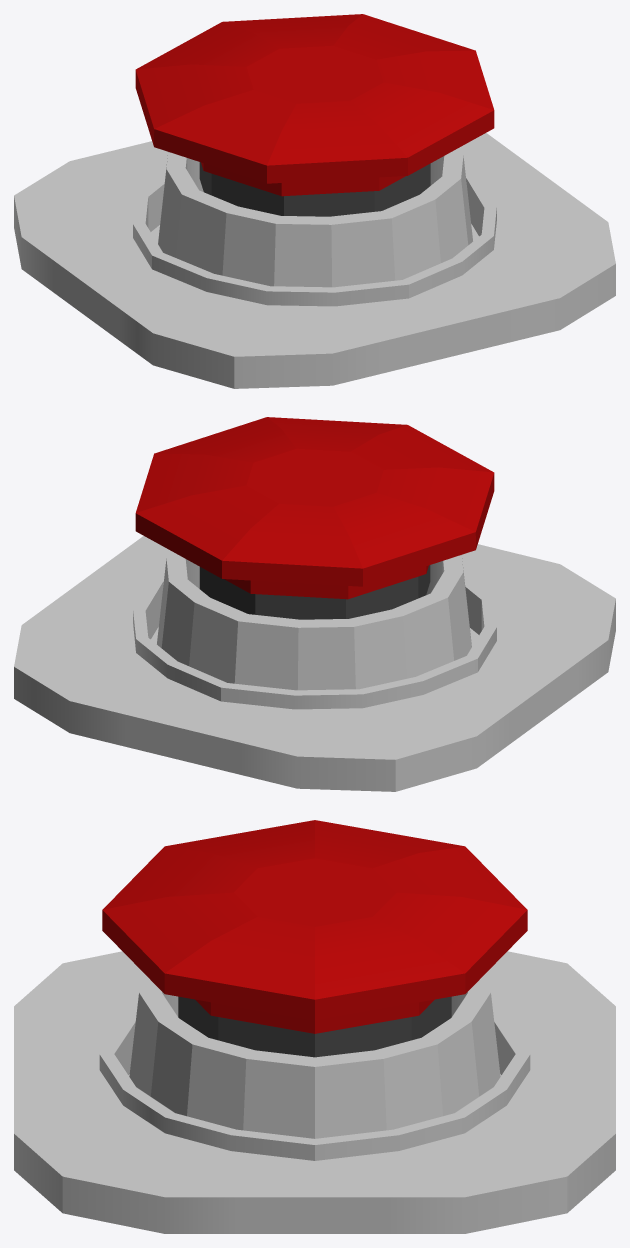
The model's file is BUTTON - UPDATED (DEC 1, 2023).fbx.
The picture shows the model from 3 angles, top to bottom: view 1: azimuth 30°, elevation 25°; view 2: azimuth 150°, elevation 25°; view 3: azimuth 270°, elevation 25°; orthographic projection. The views are drawn at different scales.
Visible parts, largest first — view 1: pCube2, pSphere2; view 2: pCube2, pSphere2; view 3: pCube2, pSphere2.
Boxes of the visible parts, x1,y1,x2,y2 form: pCube2: (14,133,615,388); pSphere2: (135,14,494,216); pCube2: (14,536,615,791); pSphere2: (135,417,494,619); pCube2: (14,951,615,1233); pSphere2: (102,820,527,1057).
Size of the model in its own units: 5.03 by 1.97 by 5.03.
